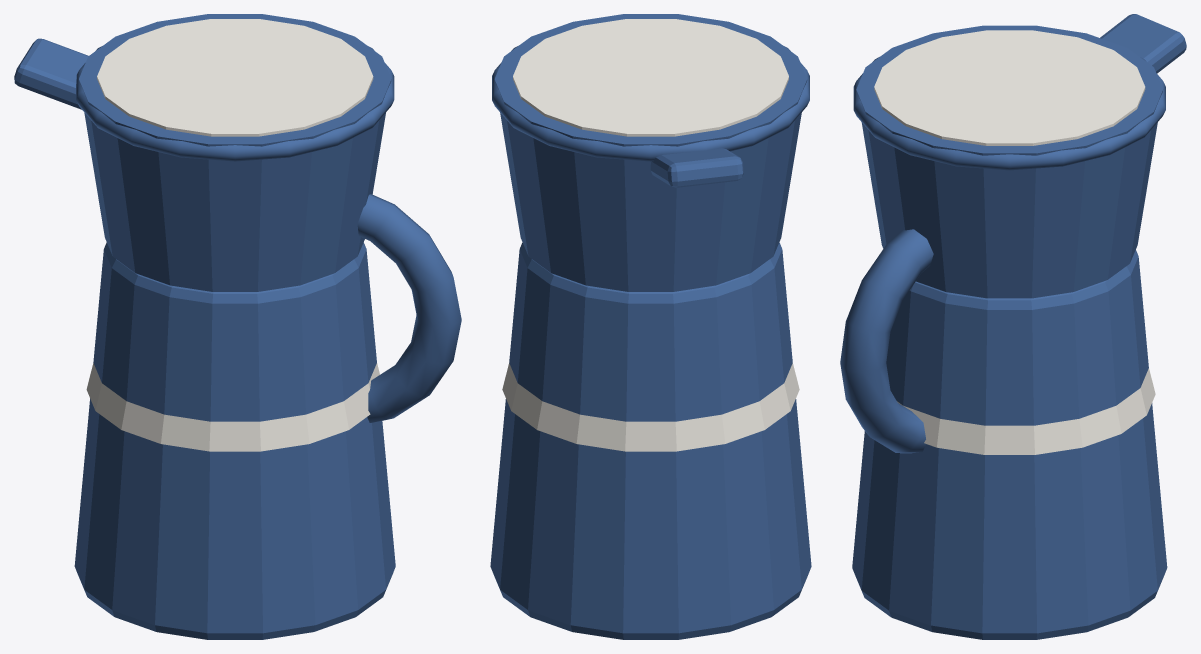
File: hh_cat_jug.glb
3 renders of one model, left to right at view 1: azimuth 30°, elevation 25°; view 2: azimuth 150°, elevation 25°; view 3: azimuth 270°, elevation 25°, orthographic.
Parts seen in each view (by area): view 1: body, neck, inside, handle, band, rim, spout; view 2: body, neck, inside, band, rim, spout; view 3: body, neck, inside, handle, band, rim, spout.
Boxes of the visible parts, box(x1,y1,x2,y2) form: body: box(74, 242, 395, 639); neck: box(79, 14, 391, 291); inside: box(97, 19, 373, 136); handle: box(357, 194, 461, 422); band: box(86, 363, 379, 451); rim: box(76, 46, 394, 161); spout: box(14, 38, 88, 109); body: box(490, 242, 811, 639); neck: box(494, 14, 807, 291); inside: box(513, 19, 788, 136); band: box(502, 363, 799, 451); rim: box(492, 46, 809, 161); spout: box(650, 148, 743, 187); body: box(852, 250, 1167, 639); neck: box(856, 25, 1163, 298); inside: box(874, 30, 1145, 145); handle: box(840, 229, 933, 453); band: box(897, 368, 1155, 454); rim: box(853, 57, 1165, 170); spout: box(1100, 14, 1186, 73).
Bounding box in the file's own units: 0.14 × 0.22 × 0.14.
